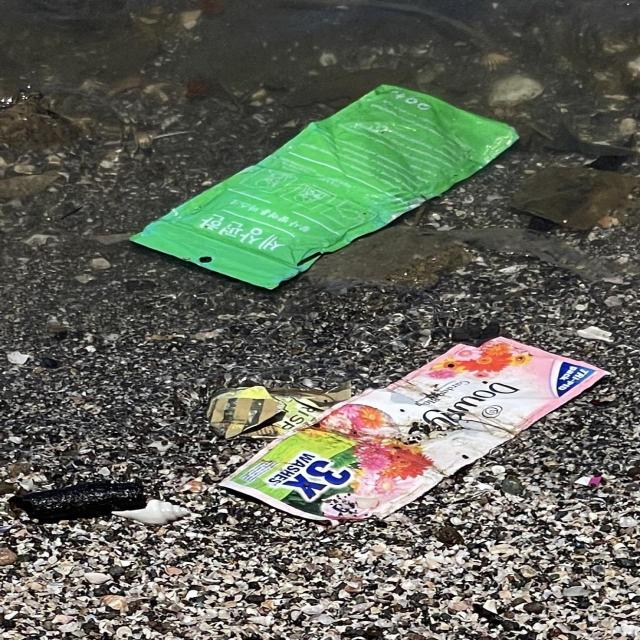plastic_waste: (129, 79, 519, 287), (220, 336, 611, 522)
